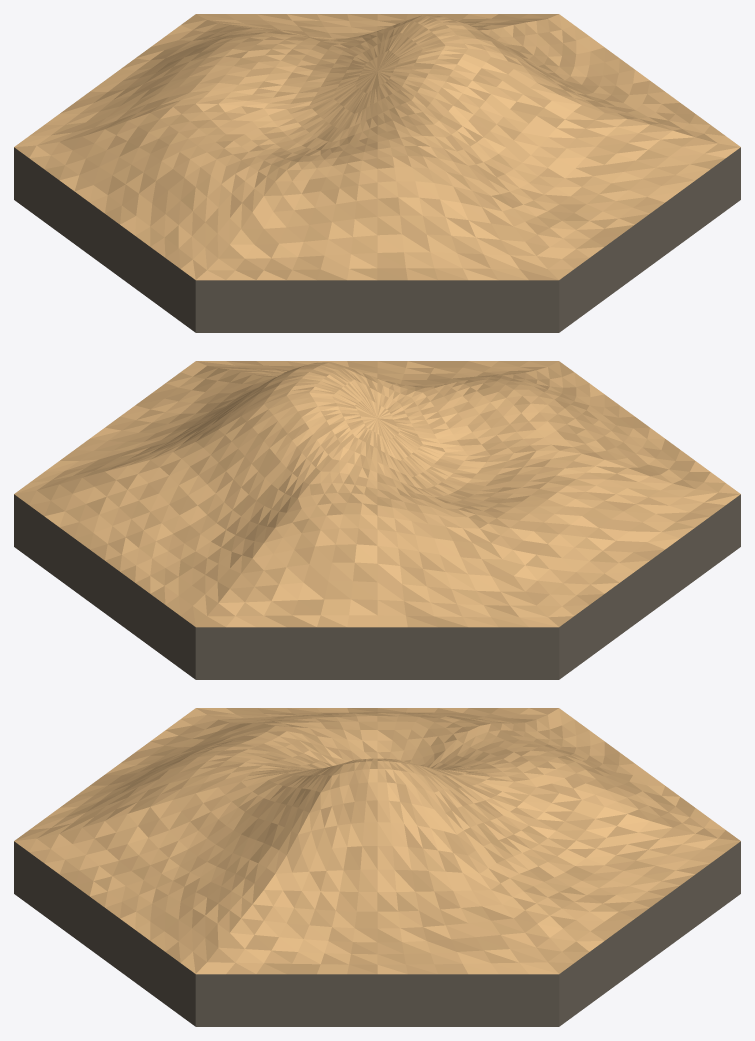
Rendered from TERRAIN_DESERT_HILLS_v00.fbx.
The picture shows the model from 3 angles, top to bottom: view 1: azimuth 30°, elevation 25°; view 2: azimuth 150°, elevation 25°; view 3: azimuth 270°, elevation 25°; orthographic projection.
Visible parts, largest first — view 1: TERRAIN_DESERT_HILLS_v00; view 2: TERRAIN_DESERT_HILLS_v00; view 3: TERRAIN_DESERT_HILLS_v00.
Boxes of the visible parts, left/top/right/bottom form: TERRAIN_DESERT_HILLS_v00: left=14, top=14, right=740, bottom=332; TERRAIN_DESERT_HILLS_v00: left=14, top=361, right=740, bottom=679; TERRAIN_DESERT_HILLS_v00: left=14, top=708, right=740, bottom=1026.
Bounding box in the file's own units: 173 × 48.04 × 200.
